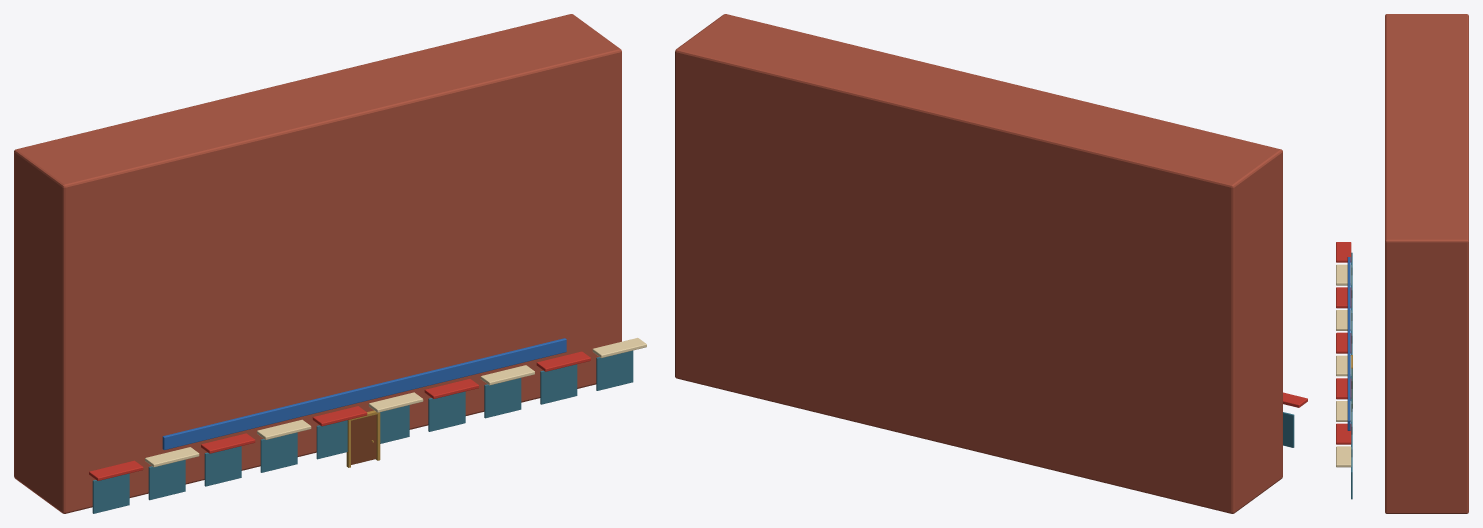
Rendered from neighborhood_skyline_facades_a.glb.
3 views of the same model, side by side, from view 1: azimuth 30°, elevation 25°; view 2: azimuth 150°, elevation 25°; view 3: azimuth 270°, elevation 25° (orthographic). The views are drawn at different scales.
Parts seen in each view (by area): view 1: SET_Building, SET_SignBand, SET_Window_2, SET_Window_8, SET_Window_1, SET_Window_3, SET_Window_6, SET_Window_7, SET_Window_0, SET_Window_9, SET_Business_Door, SET_Window_4 (+1 smaller); view 2: SET_Building; view 3: SET_Building, SET_SignBand, SET_Awning_9, SET_Awning_8, SET_Awning_0, SET_Awning_1, SET_Awning_2, SET_Awning_6, SET_Awning_4, SET_Awning_5, SET_Awning_3, SET_Awning_7.
Boxes of the visible parts, left/top/right/bottom form: SET_Building: left=14, top=14, right=621, bottom=513; SET_SignBand: left=162, top=338, right=566, bottom=450; SET_Window_2: left=204, top=446, right=241, bottom=486; SET_Window_8: left=540, top=364, right=577, bottom=404; SET_Window_1: left=148, top=460, right=185, bottom=500; SET_Window_3: left=260, top=432, right=297, bottom=472; SET_Window_6: left=428, top=391, right=465, bottom=431; SET_Window_7: left=484, top=378, right=521, bottom=418; SET_Window_0: left=92, top=473, right=129, bottom=513; SET_Window_9: left=596, top=350, right=633, bottom=390; SET_Business_Door: left=351, top=414, right=376, bottom=464; SET_Window_4: left=316, top=420, right=347, bottom=459; SET_Building: left=675, top=14, right=1282, bottom=513; SET_Building: left=1385, top=14, right=1468, bottom=513; SET_SignBand: left=1347, top=257, right=1350, bottom=430; SET_Awning_9: left=1336, top=446, right=1351, bottom=467; SET_Awning_8: left=1336, top=423, right=1351, bottom=444; SET_Awning_0: left=1336, top=242, right=1351, bottom=262; SET_Awning_1: left=1336, top=264, right=1351, bottom=285; SET_Awning_2: left=1336, top=287, right=1351, bottom=308; SET_Awning_6: left=1336, top=378, right=1351, bottom=399; SET_Awning_4: left=1336, top=332, right=1351, bottom=353; SET_Awning_5: left=1336, top=355, right=1351, bottom=376; SET_Awning_3: left=1336, top=310, right=1351, bottom=330; SET_Awning_7: left=1336, top=401, right=1351, bottom=421.
Size of what is drawn, in the model's own units: 32 by 18.09 by 7.9.
